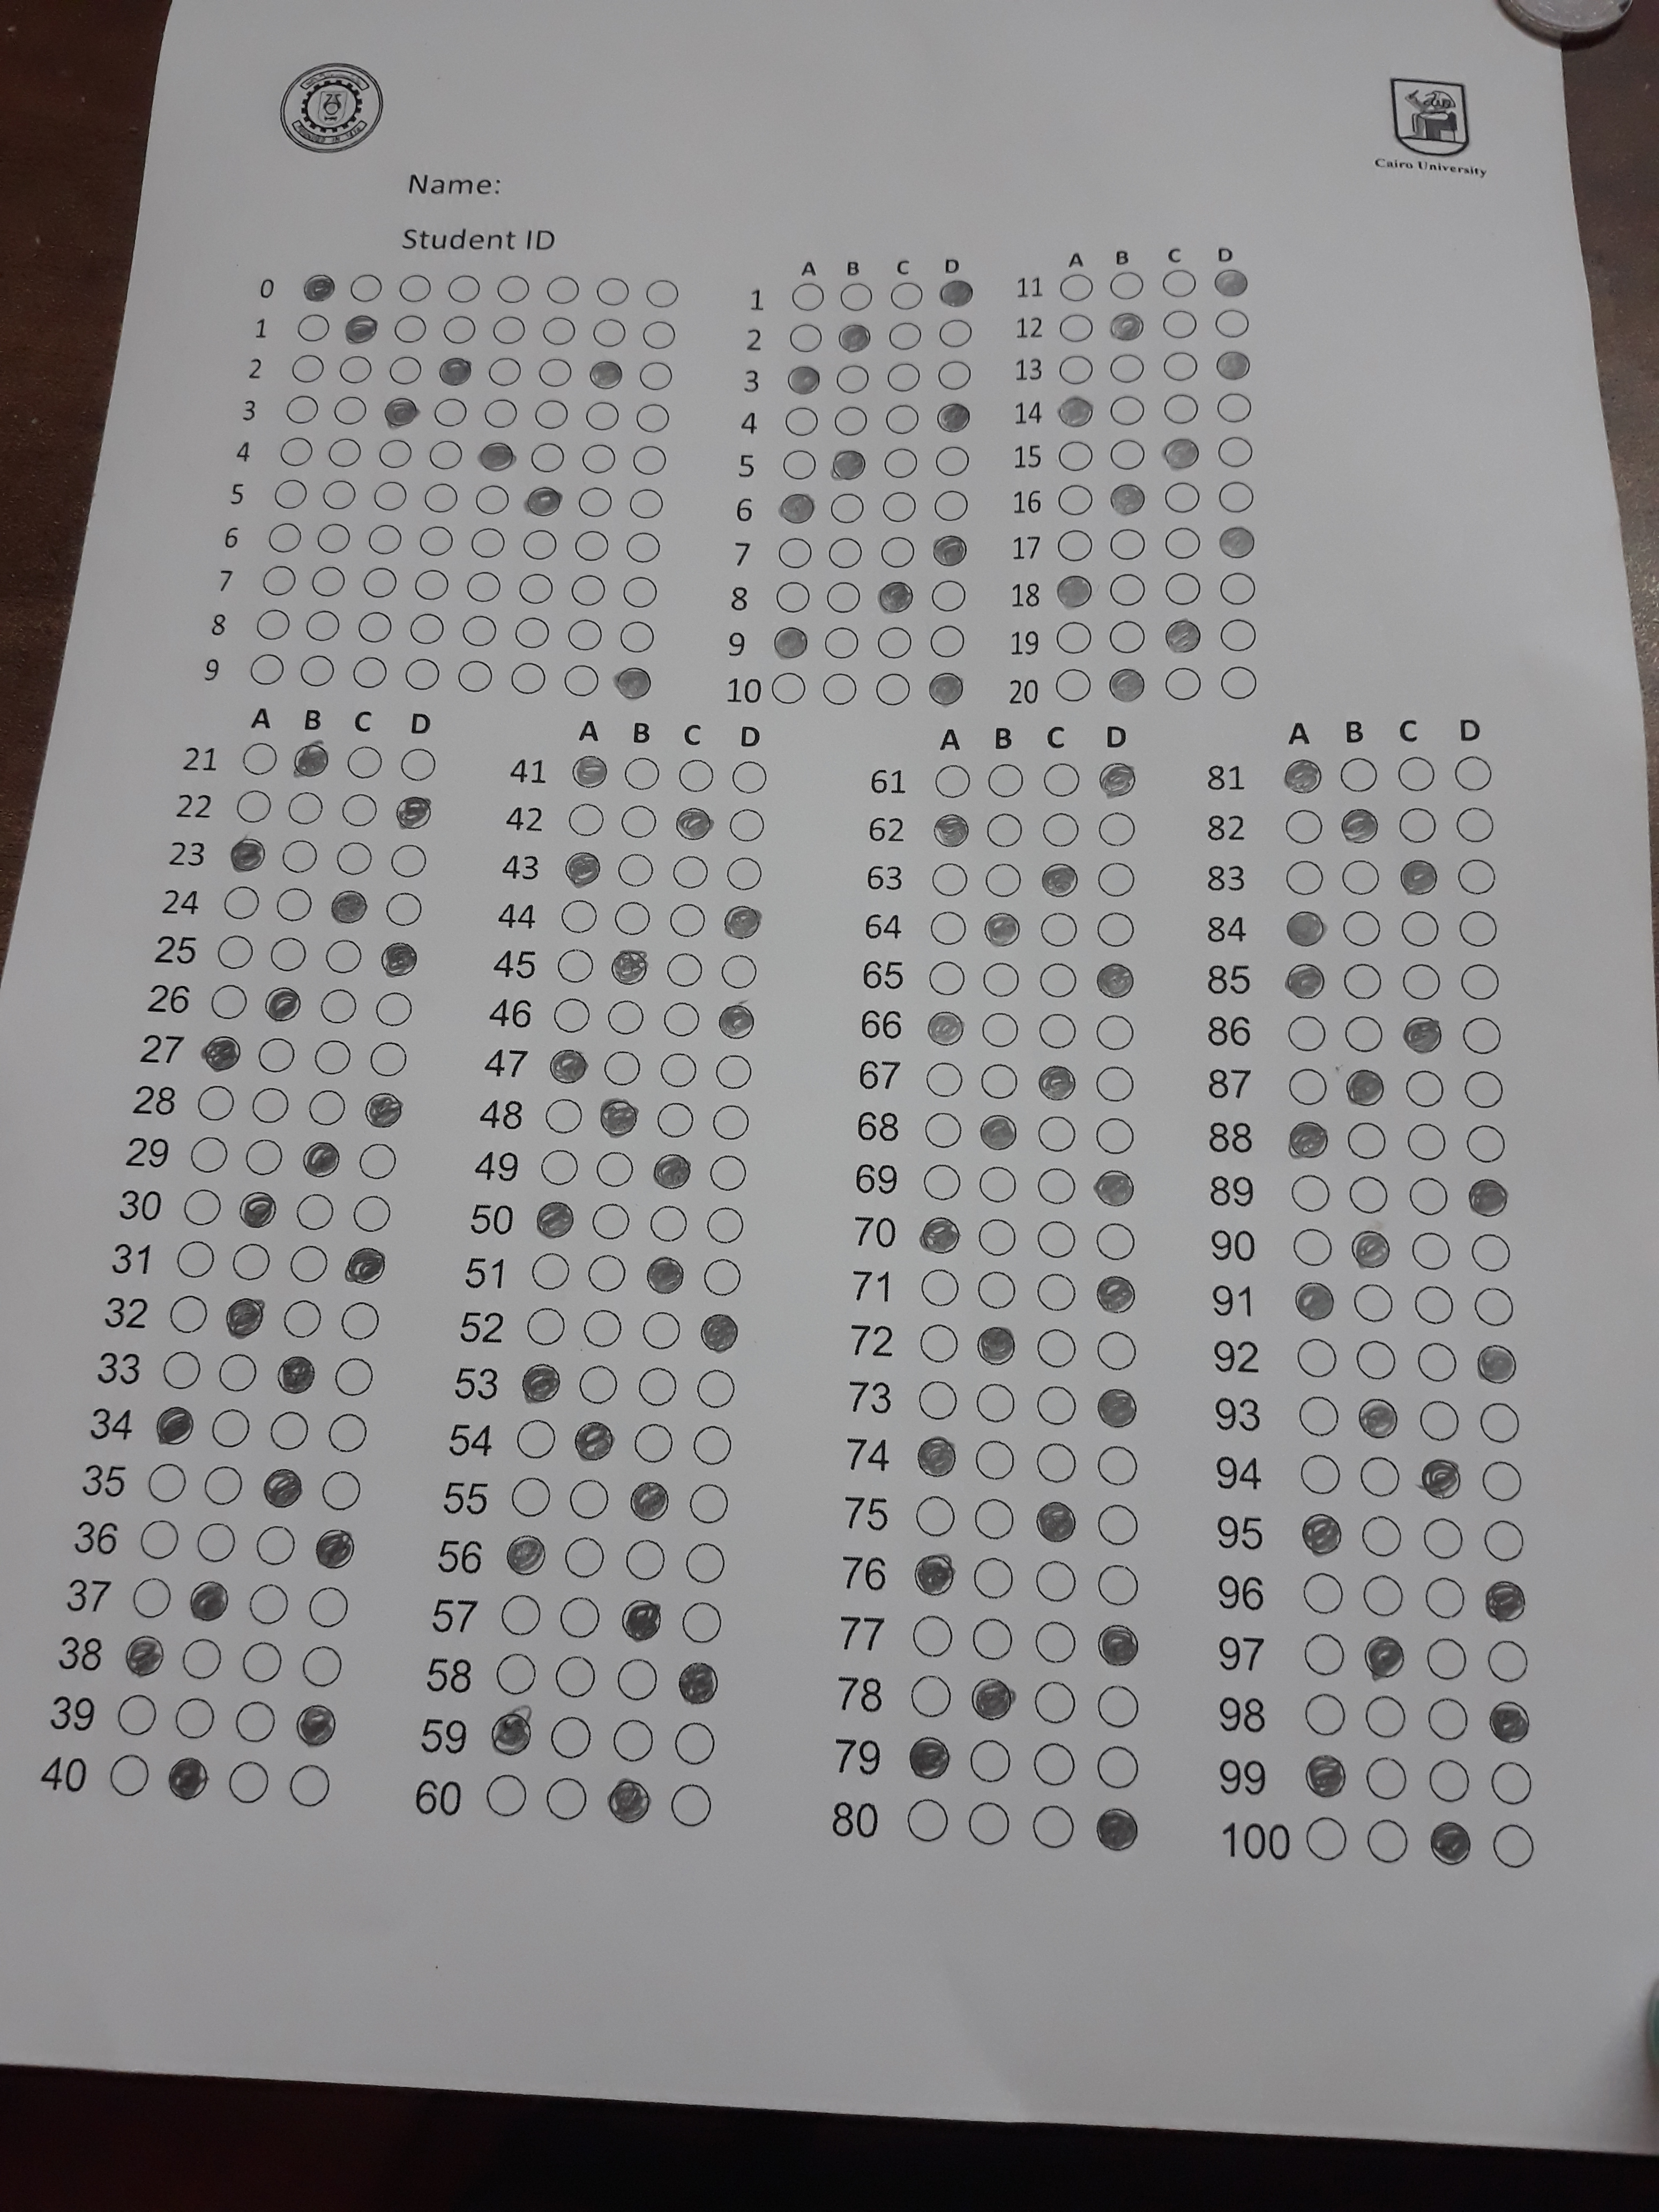not-c: (972, 1379, 1019, 1426), (1359, 1573, 1406, 1620), (1422, 1515, 1469, 1562), (1364, 1818, 1412, 1865), (1485, 1639, 1532, 1686), (971, 1554, 1018, 1601), (558, 1594, 605, 1641), (199, 1461, 246, 1508), (143, 1460, 190, 1507), (253, 1522, 300, 1569), (239, 1639, 286, 1686), (178, 1635, 225, 1683), (169, 1693, 216, 1740), (1096, 1562, 1141, 1609), (906, 1674, 951, 1721), (1094, 1442, 1140, 1489), (1035, 1381, 1080, 1428), (913, 1376, 958, 1423), (917, 1318, 962, 1366), (1035, 1322, 1080, 1369), (1300, 1571, 1345, 1618), (1302, 1632, 1347, 1679), (1364, 1695, 1410, 1742), (1359, 1512, 1405, 1559), (1358, 1453, 1403, 1500), (1297, 1451, 1344, 1496), (1295, 1392, 1340, 1439), (1417, 1397, 1462, 1444), (1425, 1635, 1471, 1683), (1425, 1695, 1471, 1742), (1427, 1757, 1473, 1804), (1305, 1817, 1351, 1864), (1481, 1458, 1527, 1505), (678, 1599, 723, 1646), (681, 1540, 727, 1587), (683, 1480, 728, 1527), (969, 1615, 1014, 1662), (491, 1649, 537, 1696), (906, 1797, 951, 1844), (967, 1738, 1012, 1785), (1030, 1679, 1075, 1726), (1032, 1742, 1077, 1789), (1096, 1743, 1141, 1791), (1096, 1683, 1141, 1730), (1033, 1618, 1079, 1665), (1094, 1501, 1140, 1548), (1033, 1439, 1079, 1486), (911, 1493, 957, 1540), (974, 1437, 1019, 1484), (159, 1346, 204, 1393), (498, 1592, 544, 1639), (580, 1305, 626, 1352), (331, 1353, 376, 1400), (324, 1409, 369, 1456), (509, 1474, 554, 1521), (514, 1416, 559, 1463), (577, 1360, 622, 1407), (640, 1306, 685, 1353), (631, 1420, 676, 1467), (566, 1475, 612, 1522), (563, 1534, 608, 1581), (549, 1714, 594, 1761), (612, 1717, 657, 1764), (622, 1536, 667, 1583), (209, 1406, 254, 1453), (193, 1519, 239, 1566), (136, 1515, 181, 1562), (246, 1580, 291, 1627), (307, 1585, 352, 1632), (131, 1575, 176, 1622), (113, 1691, 159, 1738), (106, 1752, 152, 1799), (225, 1759, 272, 1804), (286, 1763, 331, 1810), (484, 1771, 530, 1818), (544, 1775, 589, 1822), (1302, 1691, 1347, 1737), (1424, 1576, 1469, 1622), (1363, 1756, 1408, 1801), (1492, 1824, 1537, 1869), (1488, 1761, 1534, 1806), (1483, 1519, 1528, 1564), (1478, 1400, 1523, 1446), (910, 1613, 955, 1658), (967, 1801, 1012, 1846), (1030, 1804, 1075, 1850), (1033, 1559, 1079, 1604), (971, 1496, 1016, 1541), (267, 1407, 312, 1453), (636, 1366, 681, 1411), (552, 1653, 598, 1698), (615, 1656, 660, 1702), (319, 1470, 364, 1515), (300, 1642, 345, 1688), (232, 1698, 277, 1743), (671, 1721, 716, 1766), (667, 1782, 713, 1827), (558, 897, 603, 941), (310, 1035, 355, 1078), (207, 979, 253, 1022), (253, 1033, 298, 1076), (305, 1085, 350, 1129), (242, 1136, 288, 1179), (186, 1134, 232, 1177), (179, 1186, 225, 1230), (164, 1292, 209, 1336), (538, 1146, 584, 1190), (587, 1200, 633, 1244), (584, 1251, 629, 1294), (1094, 907, 1138, 951), (1399, 907, 1443, 951), (1459, 961, 1502, 1005), (1457, 853, 1500, 897), (1396, 803, 1439, 846), (1338, 857, 1382, 900), (1403, 1066, 1446, 1109), (979, 1008, 1023, 1052), (1093, 1062, 1136, 1106), (979, 958, 1023, 1001), (925, 958, 969, 1001), (708, 1101, 751, 1144), (718, 949, 762, 993), (727, 803, 770, 846), (1417, 1339, 1460, 1383), (1035, 1217, 1079, 1261), (918, 1266, 962, 1310), (974, 1216, 1018, 1259), (920, 1160, 964, 1204), (978, 1061, 1021, 1104), (355, 1139, 399, 1183), (293, 1190, 336, 1233), (317, 984, 361, 1028), (657, 1049, 701, 1092), (249, 1083, 293, 1127), (195, 1082, 239, 1125), (174, 1238, 218, 1282), (338, 1299, 382, 1343), (279, 1298, 322, 1341), (214, 1352, 258, 1395), (653, 1099, 697, 1143), (542, 1094, 586, 1137), (647, 1202, 690, 1245), (350, 1193, 396, 1235), (371, 988, 416, 1029), (364, 1038, 410, 1080), (288, 1242, 333, 1284), (660, 998, 706, 1040), (228, 1240, 274, 1282), (528, 1251, 573, 1292), (1469, 1231, 1513, 1273), (1466, 1122, 1509, 1163), (1459, 1014, 1502, 1055), (1340, 963, 1384, 1005), (1096, 859, 1140, 900), (1096, 808, 1140, 850), (1039, 759, 1082, 801), (1340, 907, 1384, 949), (1401, 961, 1445, 1003), (1457, 907, 1500, 949), (1453, 803, 1497, 845), (1450, 752, 1493, 794), (1394, 752, 1438, 794), (1283, 857, 1326, 899), (1284, 806, 1328, 848), (1337, 756, 1380, 798), (1290, 1172, 1333, 1214), (1347, 1174, 1391, 1216), (1410, 1230, 1453, 1271), (1406, 1176, 1450, 1217), (1345, 1120, 1389, 1162), (1288, 1066, 1331, 1108), (1284, 1012, 1328, 1054), (1037, 1010, 1080, 1052), (1093, 1012, 1136, 1054), (1035, 960, 1079, 1001), (925, 907, 969, 949), (1037, 909, 1080, 951), (981, 859, 1025, 900), (931, 857, 972, 900), (983, 810, 1026, 852), (1040, 810, 1084, 852), (704, 1205, 748, 1247), (708, 1151, 751, 1193), (711, 1050, 755, 1092), (723, 855, 767, 897), (728, 758, 772, 799), (1094, 1329, 1138, 1371), (1035, 1271, 1079, 1313), (976, 1270, 1019, 1312), (1297, 1338, 1340, 1379), (1356, 1339, 1399, 1381), (1352, 1282, 1396, 1324), (1473, 1285, 1516, 1327), (1291, 1226, 1335, 1268), (1094, 1221, 1138, 1263), (690, 1423, 734, 1465), (692, 1369, 735, 1411), (701, 1256, 744, 1298), (1033, 1165, 1077, 1207), (976, 1163, 1019, 1205), (1093, 1115, 1136, 1157), (1033, 1113, 1077, 1155), (924, 1059, 965, 1103), (594, 1148, 638, 1190), (526, 1305, 570, 1346), (1344, 1014, 1385, 1055), (1462, 1069, 1504, 1111), (1406, 1120, 1448, 1162), (1413, 1284, 1455, 1325), (922, 1109, 964, 1151), (985, 761, 1026, 801), (333, 840, 375, 876), (606, 998, 648, 1035), (620, 756, 662, 792), (322, 939, 364, 975), (396, 747, 437, 784), (239, 740, 281, 777), (667, 902, 709, 939), (617, 803, 659, 840), (932, 763, 972, 799), (389, 843, 429, 880), (383, 890, 423, 927), (612, 900, 652, 937), (556, 948, 596, 984), (551, 996, 591, 1033), (601, 1049, 641, 1085), (664, 949, 704, 986), (678, 758, 718, 794), (340, 791, 380, 827), (268, 935, 308, 972), (274, 885, 314, 921), (281, 836, 321, 873), (284, 789, 324, 826), (221, 885, 261, 921), (216, 934, 256, 970), (234, 787, 274, 824), (345, 744, 385, 780), (615, 850, 655, 887), (671, 853, 711, 890), (565, 801, 605, 838), (640, 317, 680, 352), (538, 314, 579, 348), (439, 314, 479, 348), (455, 658, 495, 693), (349, 655, 389, 690), (335, 352, 375, 387), (324, 435, 364, 470), (319, 479, 359, 514), (247, 651, 288, 686), (303, 608, 343, 643), (265, 521, 305, 556), (544, 273, 584, 308), (493, 272, 533, 307), (821, 671, 861, 705), (577, 486, 617, 521), (784, 320, 824, 355), (615, 620, 655, 655), (582, 399, 622, 434), (507, 660, 547, 695), (464, 570, 504, 604), (469, 526, 509, 561), (472, 482, 512, 517), (1107, 394, 1147, 428), (1056, 310, 1096, 345), (1161, 307, 1201, 341), (1211, 305, 1251, 340), (1107, 266, 1147, 301), (875, 671, 915, 705), (1162, 526, 1202, 561), (1108, 526, 1148, 561), (1162, 481, 1202, 516), (1108, 437, 1148, 472), (932, 442, 972, 477), (880, 446, 920, 481), (622, 531, 660, 566), (373, 479, 411, 514), (587, 317, 626, 352), (460, 615, 498, 650), (410, 611, 448, 646), (359, 566, 397, 601), (355, 610, 394, 644), (387, 354, 425, 388), (331, 394, 369, 428), (300, 655, 338, 690), (260, 563, 298, 597), (274, 475, 312, 510), (284, 392, 322, 427), (594, 275, 633, 310), (295, 310, 333, 345), (347, 272, 385, 307), (769, 671, 807, 705), (626, 486, 664, 521), (622, 575, 660, 610), (774, 580, 812, 615), (777, 536, 816, 571), (782, 404, 821, 439), (877, 627, 915, 662), (829, 489, 868, 524), (570, 573, 608, 608), (563, 664, 601, 698), (882, 491, 920, 526), (631, 444, 669, 479), (580, 441, 619, 475), (633, 401, 671, 435), (638, 359, 676, 394), (514, 615, 552, 650), (516, 571, 554, 606), (521, 528, 559, 563), (530, 441, 568, 475), (537, 355, 575, 390), (1164, 667, 1202, 702), (1220, 665, 1258, 700), (1220, 617, 1258, 651), (1218, 571, 1256, 606), (1215, 390, 1253, 425), (1162, 392, 1201, 427), (1161, 265, 1199, 300), (836, 279, 875, 314), (1054, 667, 1093, 702), (1054, 622, 1093, 657), (1108, 573, 1147, 608), (1164, 571, 1202, 606), (823, 625, 861, 660), (931, 578, 969, 613), (932, 488, 971, 523), (831, 404, 870, 439), (833, 362, 871, 397), (936, 317, 974, 352), (425, 437, 465, 470), (376, 437, 416, 470), (643, 277, 683, 310), (415, 524, 455, 557), (411, 568, 451, 601), (314, 523, 354, 556), (253, 608, 293, 641), (277, 435, 317, 469), (288, 352, 328, 385), (396, 272, 436, 305), (779, 448, 819, 481), (878, 536, 918, 570), (565, 618, 605, 651), (481, 397, 521, 430), (1216, 481, 1256, 514), (1161, 348, 1201, 381), (1054, 528, 1094, 561), (1056, 484, 1096, 517), (1054, 439, 1094, 472), (826, 536, 866, 570), (884, 402, 924, 435), (884, 361, 924, 394), (936, 359, 976, 392), (488, 314, 526, 347), (430, 394, 469, 427), (404, 658, 443, 691), (366, 524, 404, 557), (310, 566, 349, 599), (390, 312, 429, 345), (444, 272, 483, 305), (573, 528, 612, 561), (788, 280, 826, 314), (533, 397, 572, 430), (422, 481, 460, 514), (486, 355, 525, 388), (1216, 435, 1255, 469), (1058, 354, 1096, 387), (1107, 352, 1145, 385), (1058, 272, 1096, 305), (1108, 620, 1147, 653), (927, 624, 965, 657), (824, 580, 863, 613), (885, 320, 924, 354), (887, 280, 925, 314)
taken-c: (606, 1778, 653, 1825), (185, 1578, 232, 1625), (1427, 1818, 1473, 1867), (488, 1712, 535, 1757), (164, 1754, 211, 1799), (1485, 1578, 1530, 1623), (295, 1702, 340, 1747), (122, 1634, 167, 1679), (1298, 1512, 1344, 1555), (1305, 1754, 1351, 1797), (911, 1554, 957, 1597), (1033, 1500, 1079, 1543), (1096, 1386, 1141, 1430), (674, 1662, 720, 1705), (906, 1737, 951, 1780), (971, 1679, 1016, 1723), (1096, 1623, 1141, 1667), (619, 1599, 664, 1642), (1356, 1397, 1399, 1440), (1096, 1806, 1140, 1850), (1363, 1634, 1406, 1677), (1488, 1700, 1532, 1743), (1420, 1456, 1464, 1500), (917, 1437, 960, 1480), (502, 1534, 547, 1576), (312, 1527, 357, 1569), (274, 1355, 319, 1397), (627, 1480, 673, 1522), (697, 1312, 742, 1353), (643, 1256, 688, 1298), (152, 1406, 197, 1447), (235, 1188, 281, 1230), (260, 1468, 303, 1510), (572, 1421, 615, 1463), (519, 1362, 563, 1404), (533, 1200, 577, 1242), (343, 1245, 387, 1287), (223, 1296, 267, 1338), (298, 1137, 342, 1179), (608, 948, 652, 988), (650, 1151, 694, 1191), (976, 1327, 1019, 1367), (1093, 1275, 1136, 1315), (1093, 1167, 1136, 1207), (976, 1113, 1019, 1153), (1476, 1343, 1518, 1383), (1351, 1230, 1392, 1270), (1466, 1179, 1507, 1219), (1288, 1120, 1330, 1160), (920, 1216, 962, 1256), (1039, 862, 1082, 900), (924, 1010, 965, 1049), (981, 909, 1023, 948), (1096, 961, 1138, 1000), (931, 812, 972, 850), (1403, 1015, 1445, 1054), (1284, 909, 1326, 948), (1338, 806, 1380, 845), (721, 904, 763, 942), (716, 1005, 758, 1043), (1293, 1282, 1335, 1320), (1037, 1064, 1079, 1103), (1284, 963, 1328, 1000), (599, 1097, 638, 1137), (833, 319, 875, 355), (570, 752, 612, 789), (436, 354, 477, 390), (1161, 435, 1202, 472), (875, 580, 917, 617), (1344, 1069, 1385, 1106), (1398, 859, 1439, 895), (1281, 758, 1323, 794), (1096, 761, 1138, 798), (200, 1035, 242, 1071), (261, 986, 303, 1022), (376, 942, 418, 979), (328, 890, 369, 927), (829, 448, 870, 484), (934, 399, 974, 435), (938, 275, 978, 312), (476, 439, 516, 475), (586, 357, 626, 394), (378, 395, 418, 432), (931, 533, 971, 570), (1054, 573, 1094, 610), (1164, 618, 1204, 655), (1108, 481, 1148, 517), (1058, 394, 1098, 430), (925, 671, 965, 707), (772, 625, 812, 662), (364, 1092, 404, 1129), (392, 794, 432, 831), (291, 742, 331, 779), (612, 665, 653, 700), (523, 484, 565, 519), (1107, 667, 1148, 702), (1211, 265, 1253, 300), (547, 1049, 589, 1083), (673, 806, 714, 841), (782, 361, 823, 395), (340, 312, 380, 347), (300, 272, 340, 307), (1216, 526, 1256, 561), (1215, 348, 1255, 383), (1107, 310, 1147, 345), (777, 491, 817, 526), (563, 852, 603, 887), (227, 838, 267, 873)
